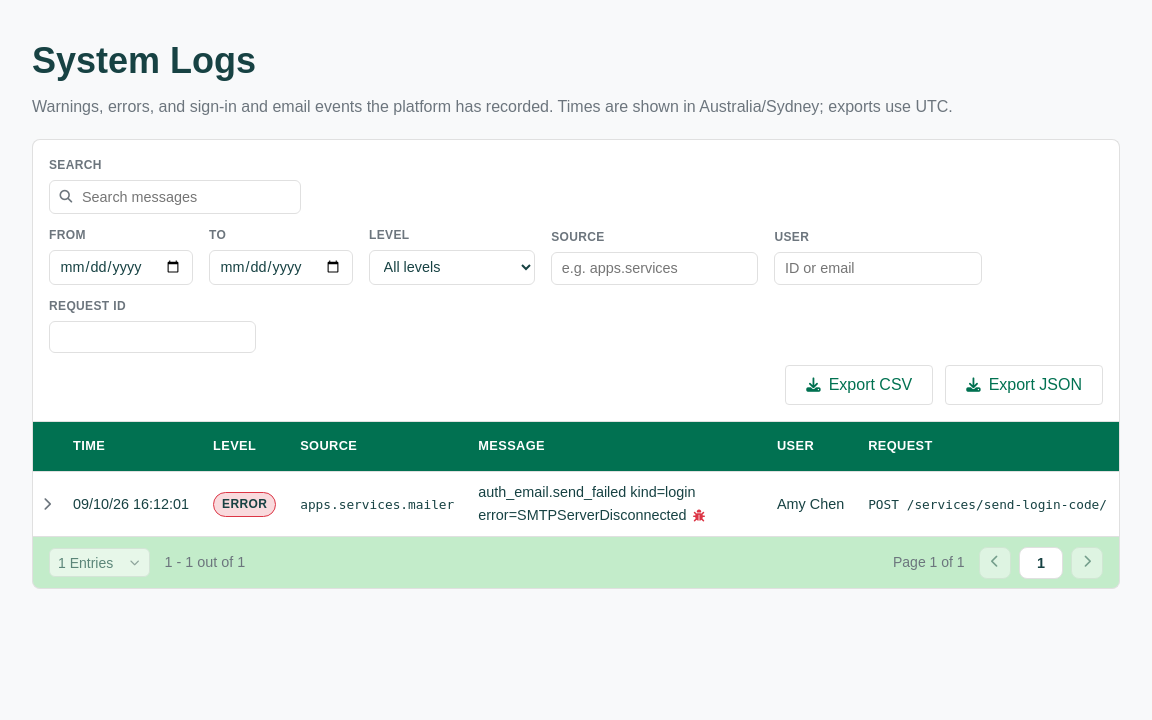
Test: AdminSystemLogsPage › refuses a "From" date after the "To" date without asking the server
The image size is (1152, 720).
In the date field with id "log-to-filter": (281, 267) [209,250,353,285], type "2026-10-01"
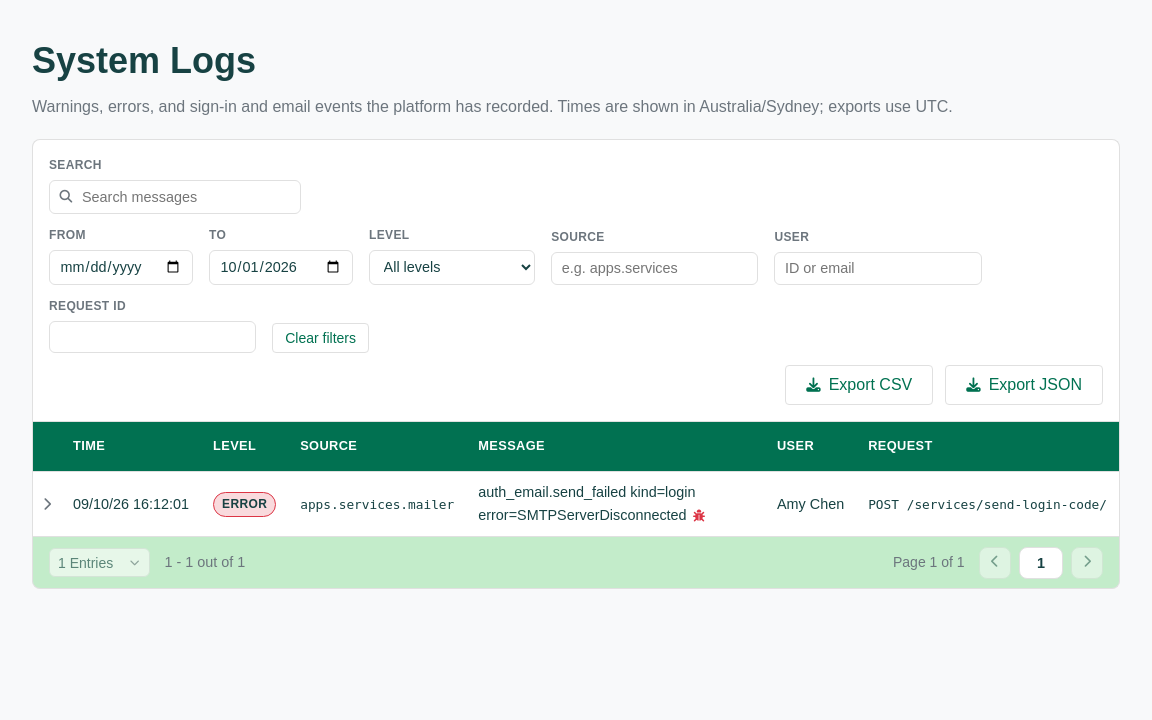
In the date field with id "log-from-filter": (121, 267) [49,250,193,285], type "2026-10-15"
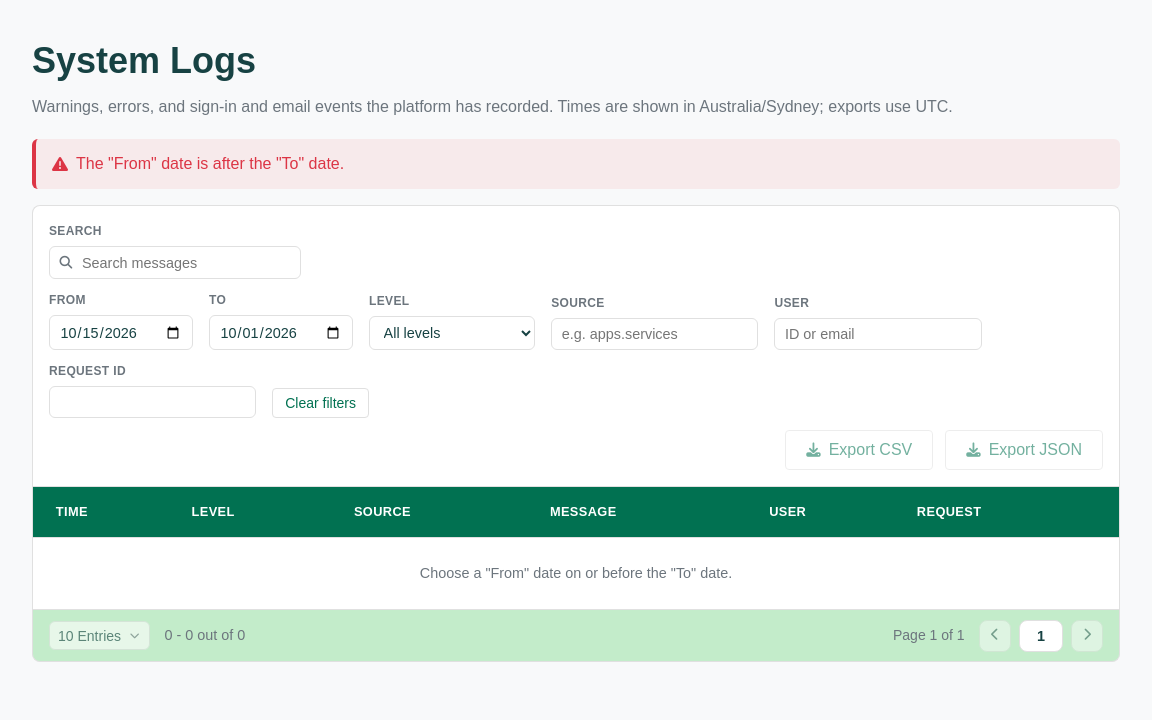
Now the message "The \"From\" date is after the \"To\" date." reads "The \"From\" date is after the \"To\" date.", box [76,155,344,172]
Now the button "Export CSV" is disabled, box [785,430,933,470]
